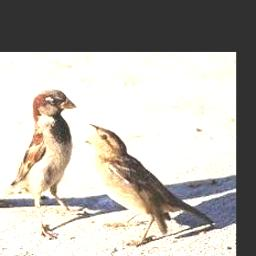Sparrow: (84, 123, 215, 247), (0, 89, 86, 240)
